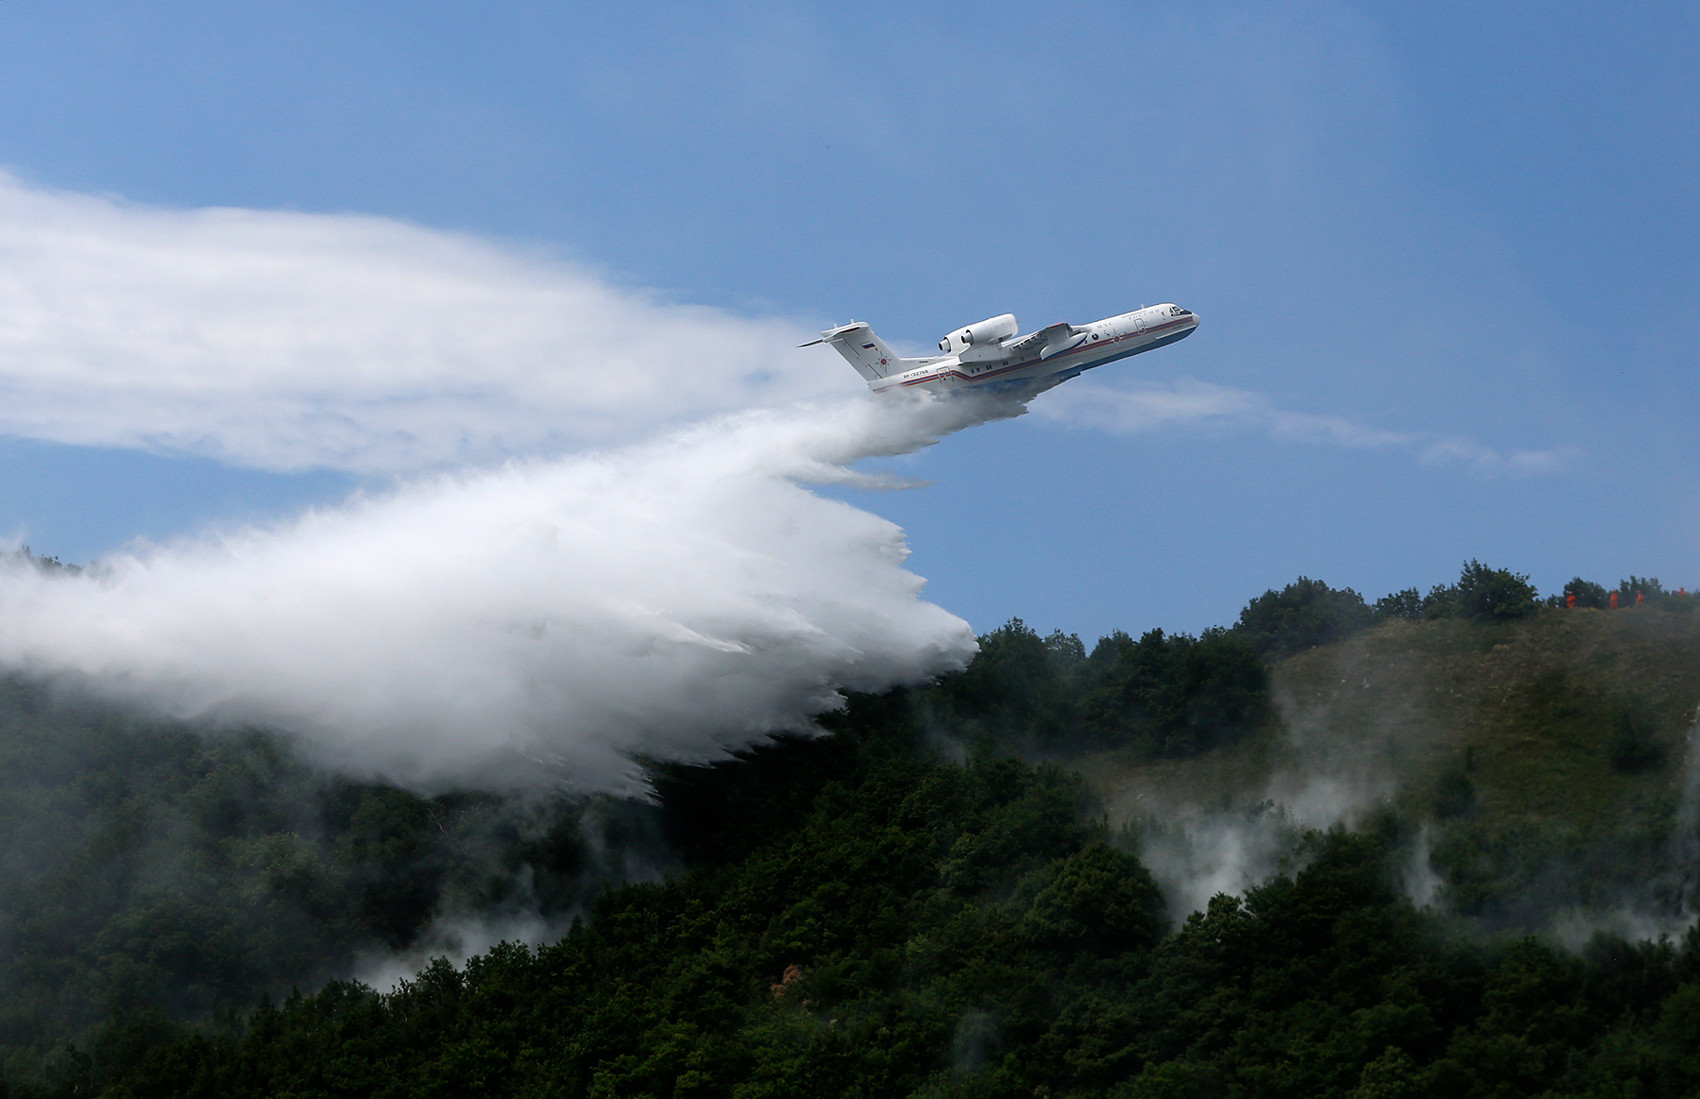Aeronef_de_service: (794, 281, 1206, 411)
